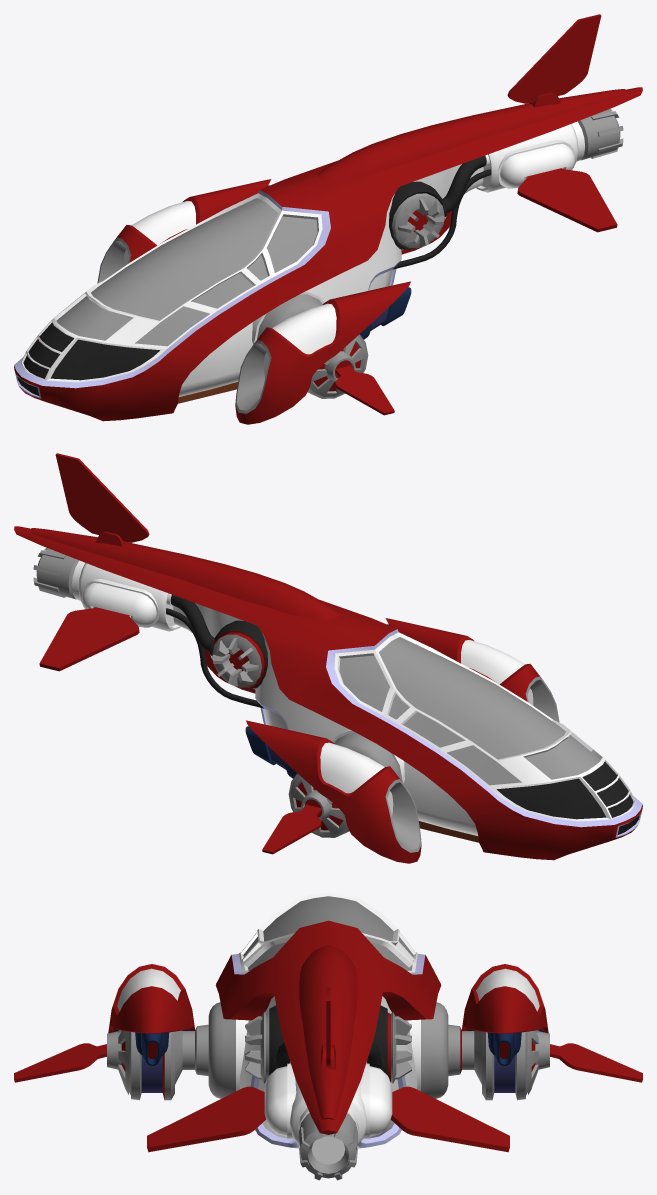
Rendered from NewShip.obj.
3 views of the same model, one above another, from view 1: azimuth 30°, elevation 25°; view 2: azimuth 150°, elevation 25°; view 3: azimuth 270°, elevation 25° (orthographic). The views are drawn at different scales.
Parts seen in each view (by area): view 1: UpperChassis, WindShield, WingCovers, Tummy, WindowFrame, FrontPlates, Tank, WingPads, Lists, WingThings, WingOpenings, Flenses (+5 smaller); view 2: UpperChassis, WindShield, WingCovers, Tummy, WindowFrame, FrontPlates, Tank, WingPads, Lists, WingThings, WingOpenings, Flenses (+5 smaller); view 3: UpperChassis, WingThings, WingCovers, Tank, WindShield, Detail, Flenses, WindowFrame, Exhaust, WingPads, Tummy, WingStuff (+5 smaller).
Part boxes in pixels (left/top/right/bottom): UpperChassis: left=14, top=14, right=642, bottom=421; WindShield: left=56, top=198, right=317, bottom=346; WingCovers: left=115, top=179, right=410, bottom=424; Tummy: left=178, top=164, right=483, bottom=396; WindowFrame: left=21, top=193, right=322, bottom=382; FrontPlates: left=17, top=322, right=159, bottom=395; Tank: left=476, top=121, right=585, bottom=192; WingPads: left=132, top=201, right=336, bottom=354; Lists: left=14, top=190, right=400, bottom=398; WingThings: left=257, top=294, right=368, bottom=398; WingOpenings: left=97, top=237, right=271, bottom=413; Flenses: left=392, top=193, right=444, bottom=248; UpperChassis: left=14, top=453, right=642, bottom=860; WindShield: left=339, top=637, right=600, bottom=785; WingCovers: left=246, top=618, right=541, bottom=863; Tummy: left=173, top=603, right=478, bottom=835; WindowFrame: left=334, top=632, right=635, bottom=821; FrontPlates: left=497, top=761, right=639, bottom=834; Tank: left=71, top=560, right=180, bottom=631; WingPads: left=320, top=640, right=524, bottom=793; Lists: left=256, top=629, right=642, bottom=837; WingThings: left=288, top=733, right=399, bottom=837; WingOpenings: left=385, top=676, right=559, bottom=852; Flenses: left=212, top=634, right=261, bottom=687; UpperChassis: left=14, top=920, right=642, bottom=1152; WingThings: left=107, top=1002, right=549, bottom=1100; WingCovers: left=108, top=964, right=548, bottom=1033; Tank: left=264, top=1061, right=392, bottom=1146; WindShield: left=243, top=896, right=413, bottom=970; Detail: left=121, top=984, right=535, bottom=1134; Flenses: left=245, top=1012, right=411, bottom=1083; WindowFrame: left=239, top=892, right=417, bottom=972; Exhaust: left=299, top=1113, right=357, bottom=1180; WingPads: left=117, top=968, right=539, bottom=1011; Tummy: left=236, top=996, right=420, bottom=1148; WingStuff: left=114, top=1029, right=542, bottom=1065.
Bounding box in the file's own units: 32.94 × 13.46 × 22.94.
